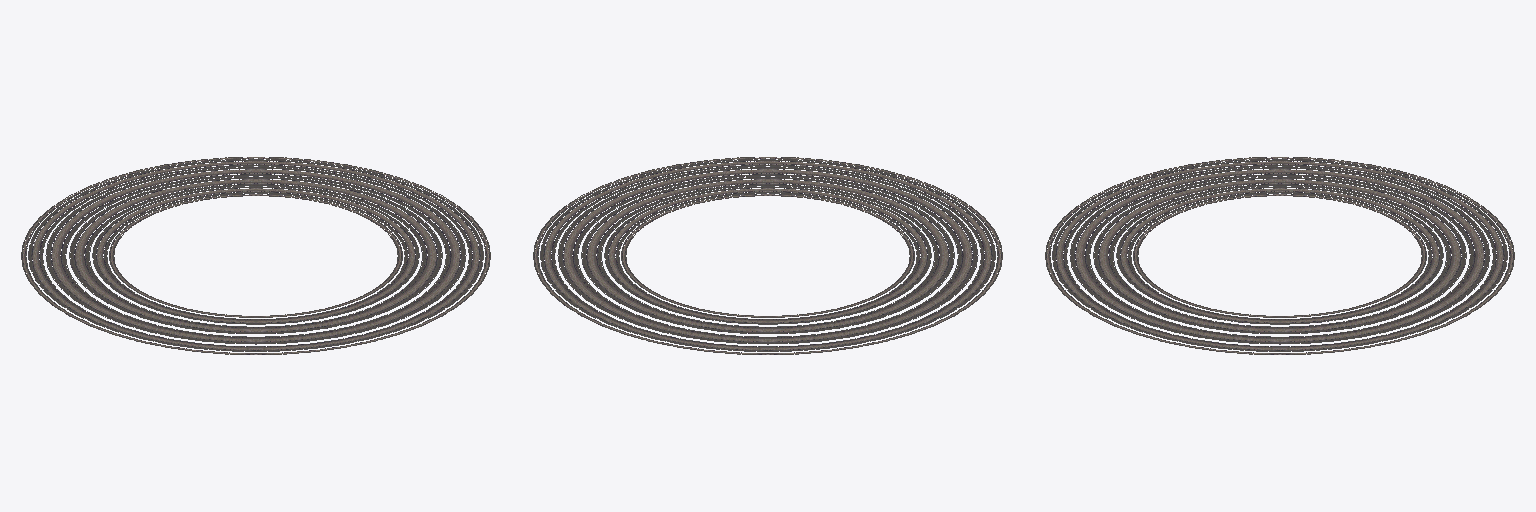
3 renders of one model, left to right at view 1: azimuth 30°, elevation 25°; view 2: azimuth 150°, elevation 25°; view 3: azimuth 270°, elevation 25°, orthographic.
Visible parts, largest first — view 1: Torus.001; view 2: Torus.001; view 3: Torus.001.
Part boxes in pixels (left/top/right/bottom): Torus.001: left=21, top=157, right=490, bottom=354; Torus.001: left=533, top=157, right=1002, bottom=354; Torus.001: left=1045, top=157, right=1514, bottom=354.
Bounding box in the file's own units: 190 × 0.4806 × 190.
Materials: 1 (1 with a texture image).